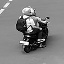motor: (17, 7, 48, 52)
